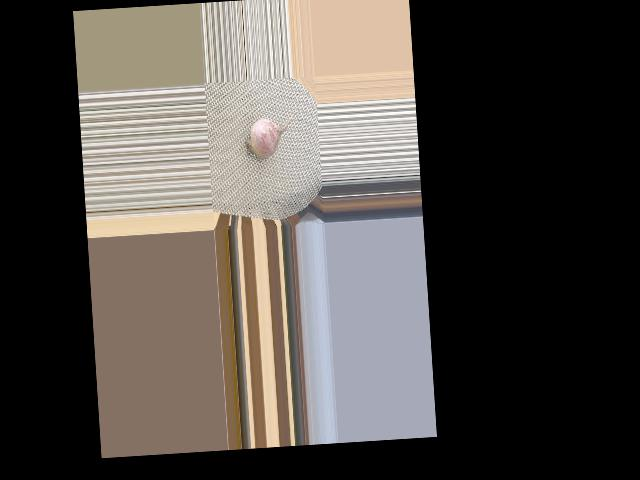beet: (242, 99, 301, 160)
